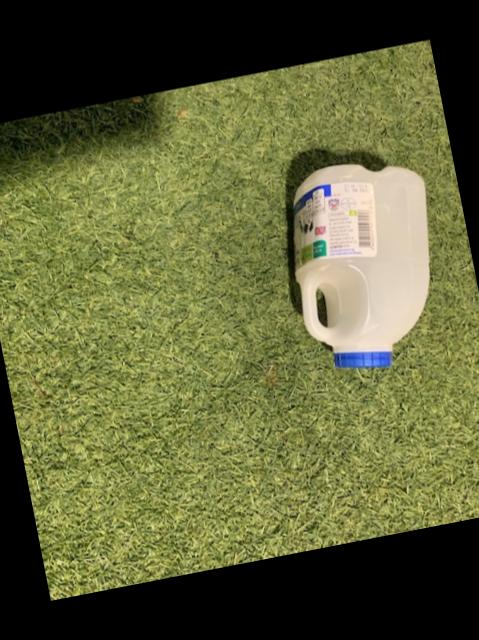plastic: (291, 163, 426, 366)
